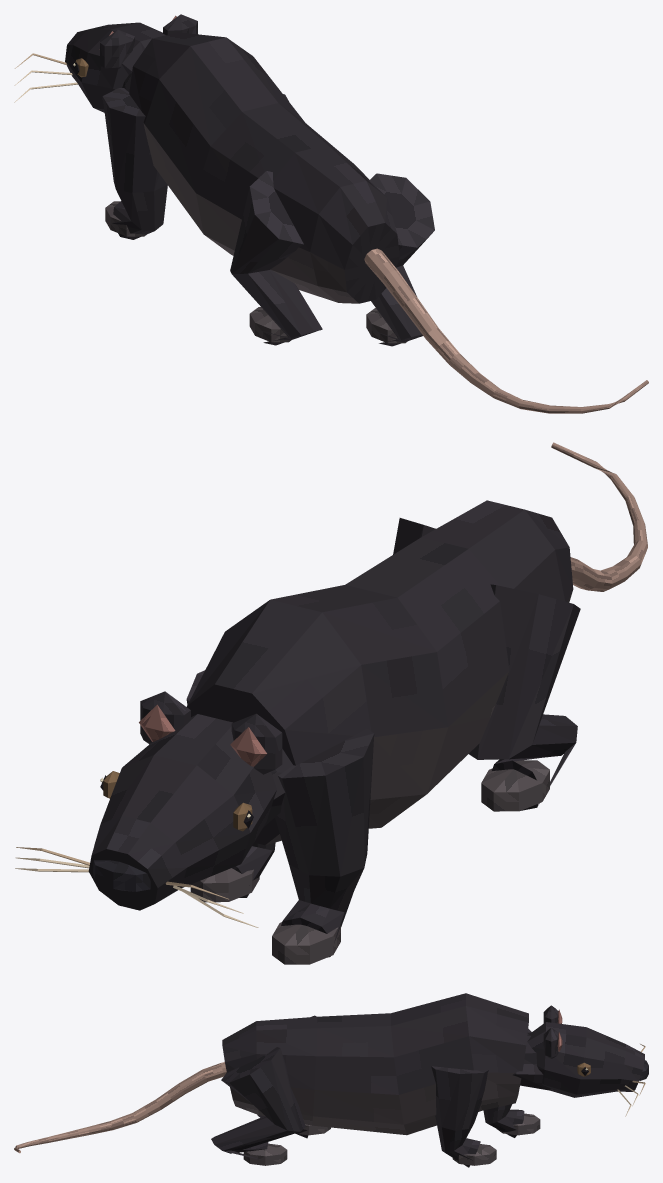
Rendered from mon_black_rat.glb.
3 views of the same model, one above another, from view 1: azimuth 30°, elevation 25°; view 2: azimuth 150°, elevation 25°; view 3: azimuth 270°, elevation 25° (orthographic). The views are drawn at different scales.
Visible parts, largest first — view 1: closed_body; view 2: closed_body; view 3: closed_body.
Boxes of the visible parts, x1=… form: closed_body: x1=14, y1=14, x2=648, y2=413; closed_body: x1=15, y1=442, x2=647, y2=964; closed_body: x1=14, y1=993, x2=648, y2=1167.
Bounding box in the file's own units: 0.0979 × 0.0919 × 0.3444.
Materials: 1 (1 with a texture image).
